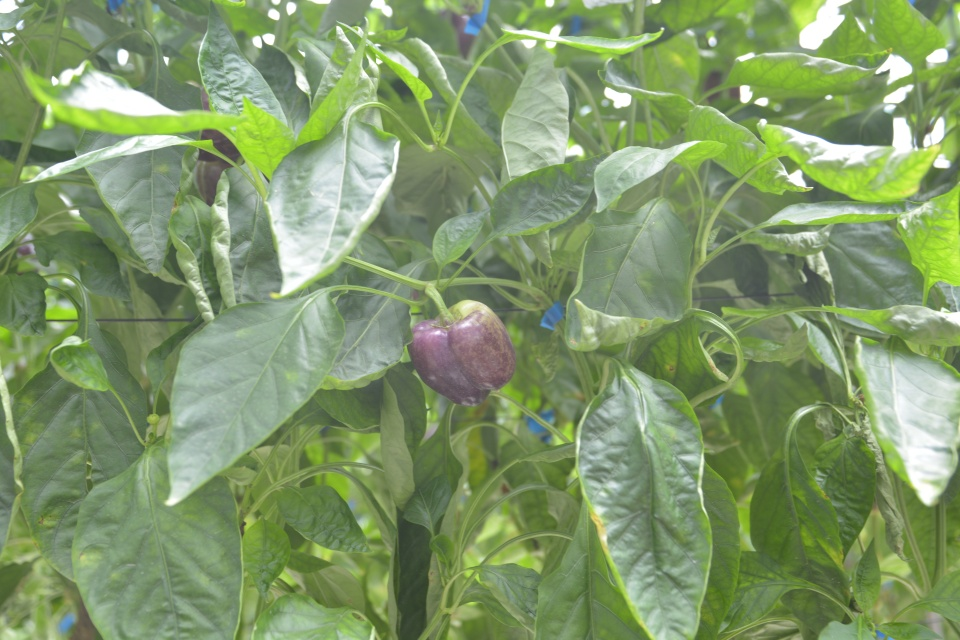fruit: (404, 297, 517, 409), (198, 87, 242, 163), (439, 3, 480, 60), (191, 161, 233, 206), (703, 67, 742, 108)
pedicle: (431, 309, 462, 327)
